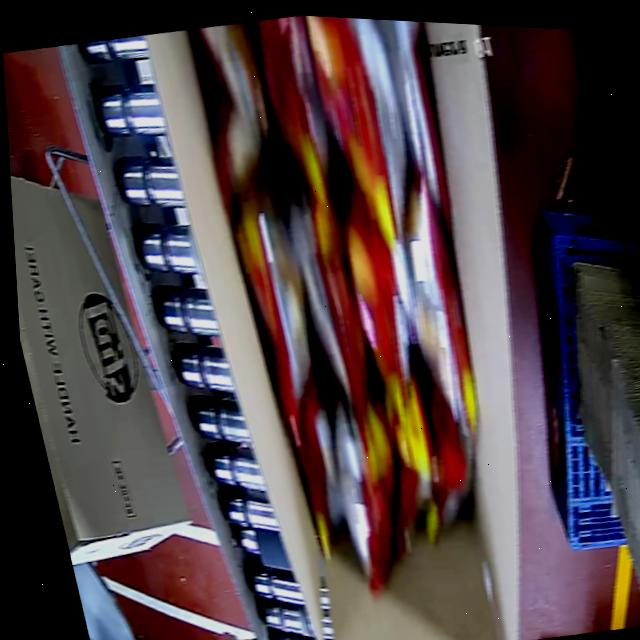MASALA: (178, 9, 556, 619)
